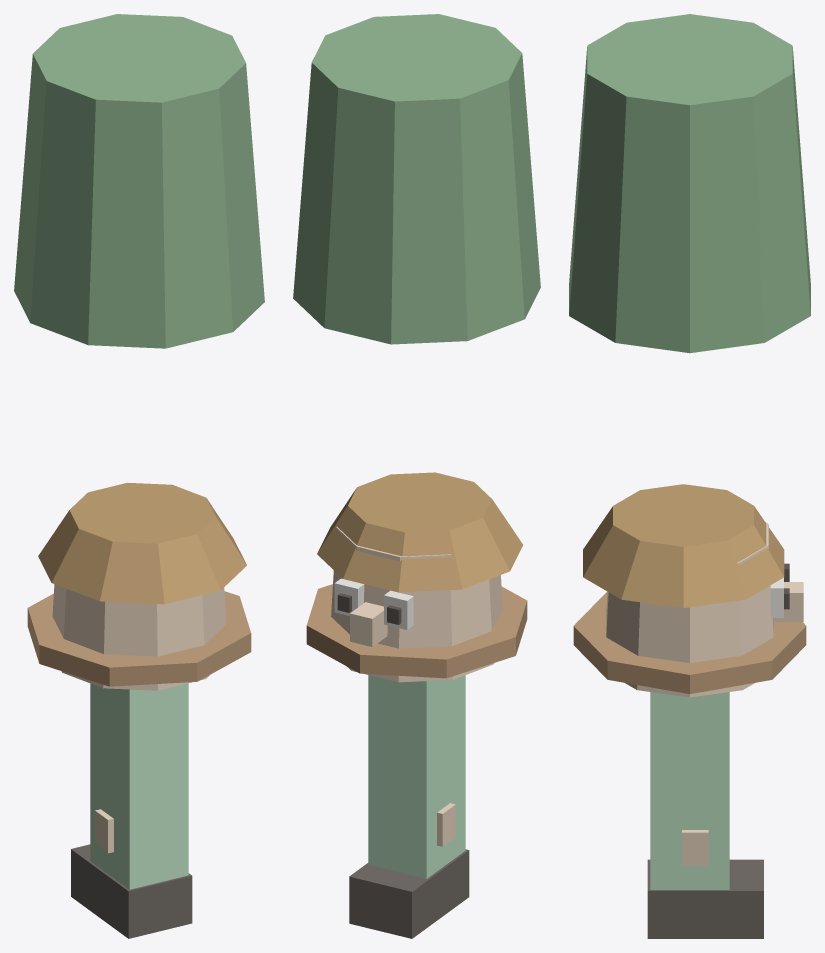
The model's file is npc_pip.glb.
3 renders of one model, left to right at view 1: azimuth 30°, elevation 25°; view 2: azimuth 150°, elevation 25°; view 3: azimuth 270°, elevation 25°, orthographic.
Visible parts, largest first — view 1: Torso, Hair, LimbLegL, Head, PropHoop, BootL, ThumbR; view 2: Torso, Hair, LimbLegL, PropHoop, Head, BootL, Nose, EyeWhiteL, ThumbR, EyeWhiteR; view 3: Torso, Hair, LimbLegL, Head, PropHoop, BootL, ThumbL, Nose, EyeWhiteR.
Boxes of the visible parts, x1,y1,x2,y2 form: Torso: (14, 14, 264, 348); Hair: (38, 482, 246, 604); LimbLegL: (90, 683, 188, 889); Head: (52, 525, 226, 690); PropHoop: (27, 591, 251, 686); BootL: (71, 844, 192, 938); ThumbR: (95, 809, 113, 853); Torso: (293, 14, 540, 344); Hair: (317, 472, 522, 592); LimbLegL: (368, 675, 465, 878); PropHoop: (306, 584, 527, 678); Head: (331, 526, 502, 682); BootL: (349, 849, 469, 938); Nose: (350, 602, 387, 646); EyeWhiteL: (384, 590, 413, 629); ThumbR: (437, 803, 455, 846); EyeWhiteR: (334, 578, 364, 615); Torso: (569, 14, 810, 353); Hair: (583, 484, 784, 608); LimbLegL: (650, 692, 729, 889); Head: (606, 522, 773, 697); PropHoop: (573, 592, 806, 694); BootL: (647, 859, 763, 938); ThumbL: (682, 830, 708, 866); Nose: (773, 582, 803, 621); EyeWhiteR: (770, 577, 783, 617).
Bounding box in the file's own units: 0.3456 × 1.3 × 0.3287.
